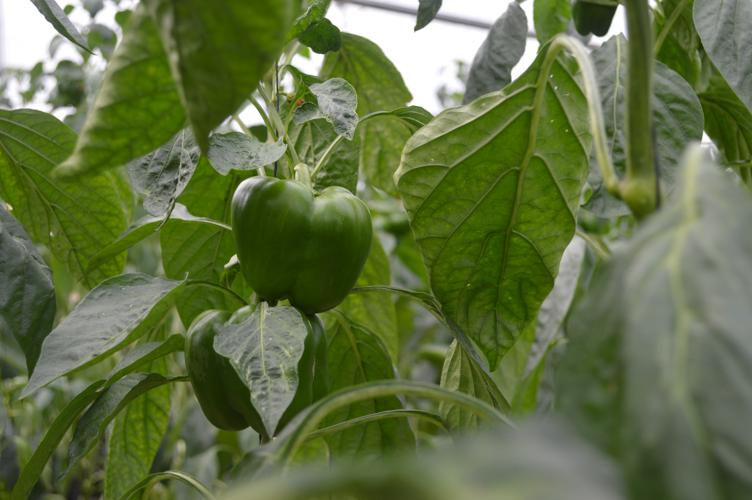BellPepper: (236, 173, 366, 319), (191, 311, 332, 439)
